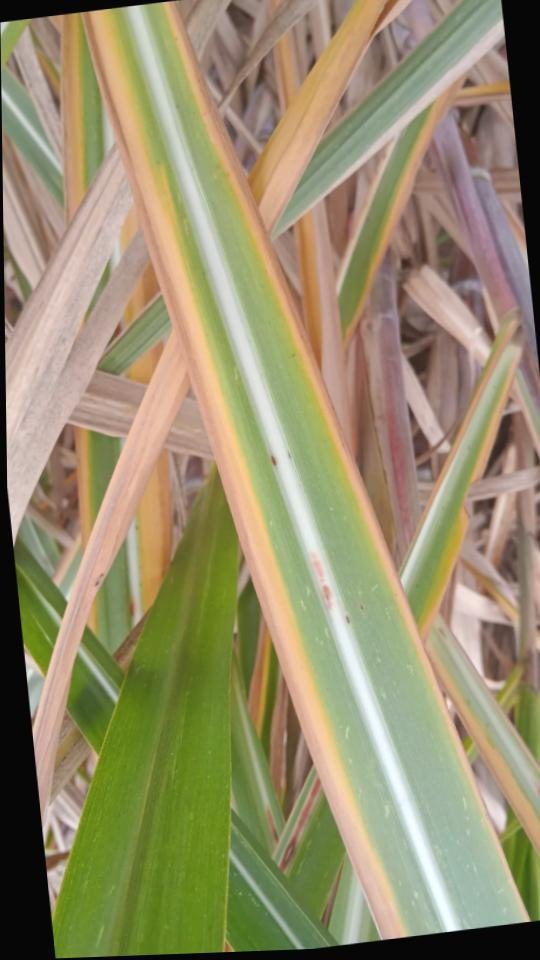RedRot: (277, 776, 321, 875), (266, 805, 278, 843), (313, 552, 324, 583), (322, 584, 332, 609), (129, 599, 136, 616)
Rust: (271, 455, 277, 466), (345, 615, 351, 624), (287, 451, 291, 459), (359, 604, 364, 610)
Yellow: (160, 1, 530, 922), (90, 8, 412, 939), (426, 637, 540, 858), (134, 448, 171, 613), (62, 13, 84, 228), (72, 425, 91, 553), (124, 261, 160, 324), (129, 342, 163, 386), (120, 207, 139, 257), (88, 595, 95, 634)
